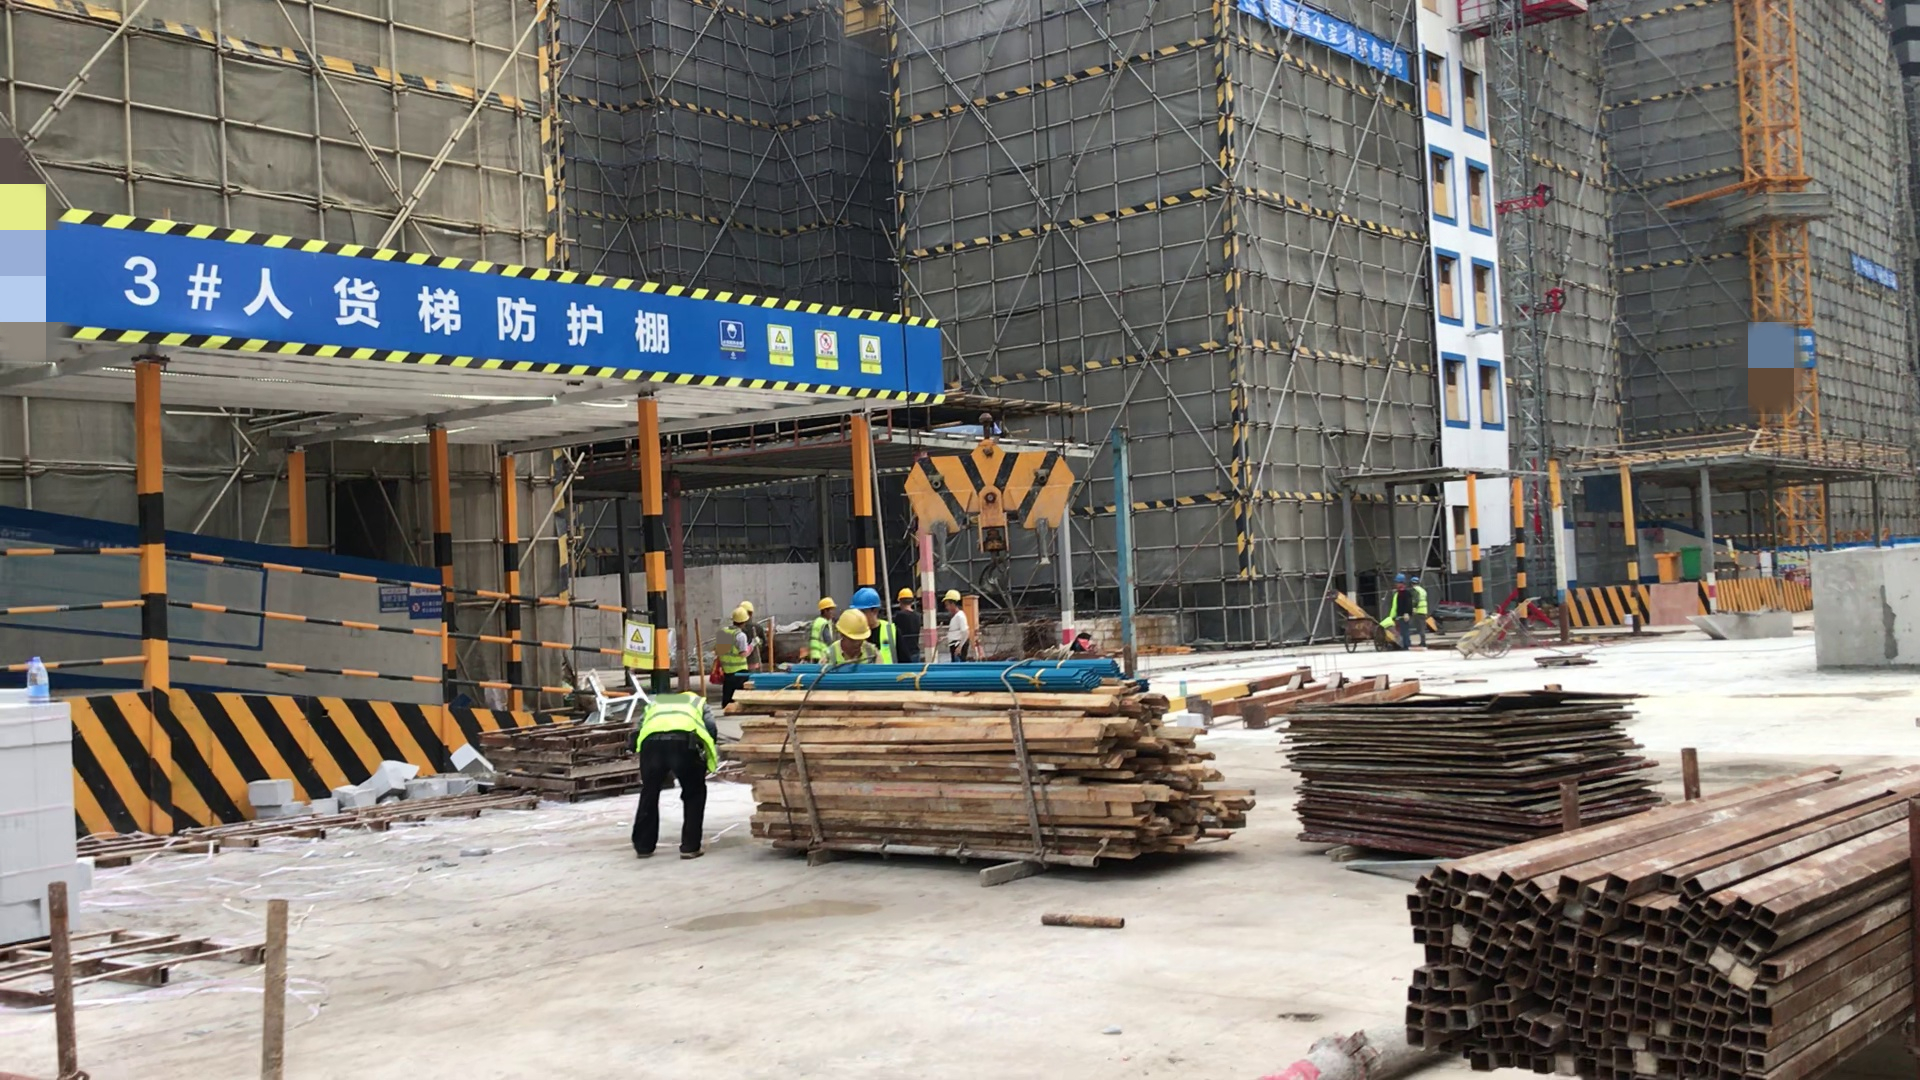helmet: (835, 609, 871, 639), (848, 589, 880, 611), (942, 589, 961, 603), (731, 609, 749, 623), (818, 598, 835, 610), (897, 588, 914, 601), (739, 601, 754, 612), (1393, 574, 1406, 582)
person: (635, 696, 715, 864), (717, 609, 752, 704), (859, 584, 896, 665), (827, 609, 874, 666), (939, 588, 971, 666), (1387, 575, 1415, 647), (1409, 577, 1429, 645), (816, 599, 836, 664), (901, 589, 917, 666)
vest: (642, 695, 723, 751), (721, 630, 747, 674), (872, 620, 893, 663), (810, 619, 828, 659), (1414, 587, 1428, 616)
